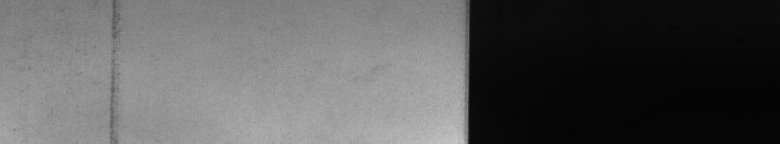hd: (100, 4, 122, 136)
